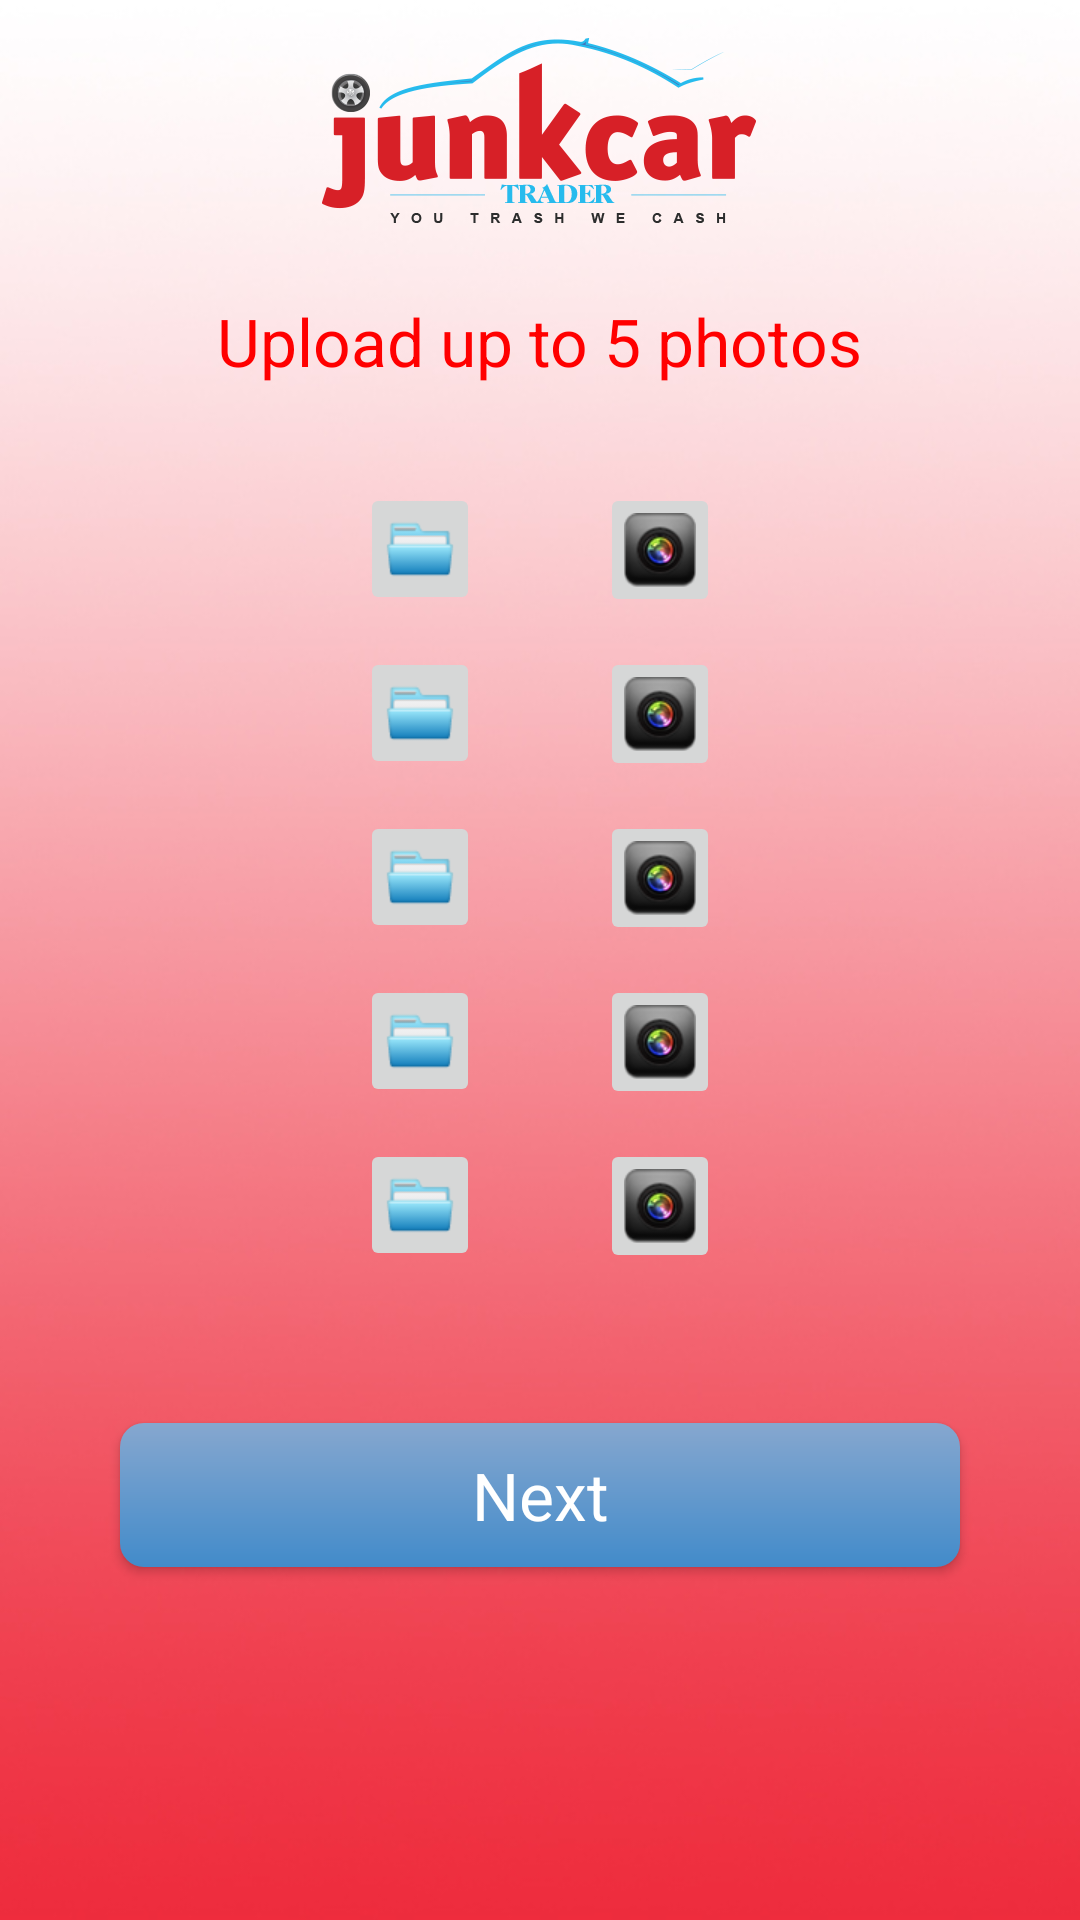

Icons on this 1080*1920 Android screen, each with its box as (x1, y1, x2, y2):
camera: (612, 501, 708, 599), (612, 665, 708, 763), (612, 829, 708, 927), (612, 993, 708, 1091), (612, 1157, 708, 1255)
folder open: (372, 501, 468, 597), (372, 665, 468, 761), (372, 829, 468, 925), (372, 993, 468, 1089), (372, 1157, 468, 1253)
